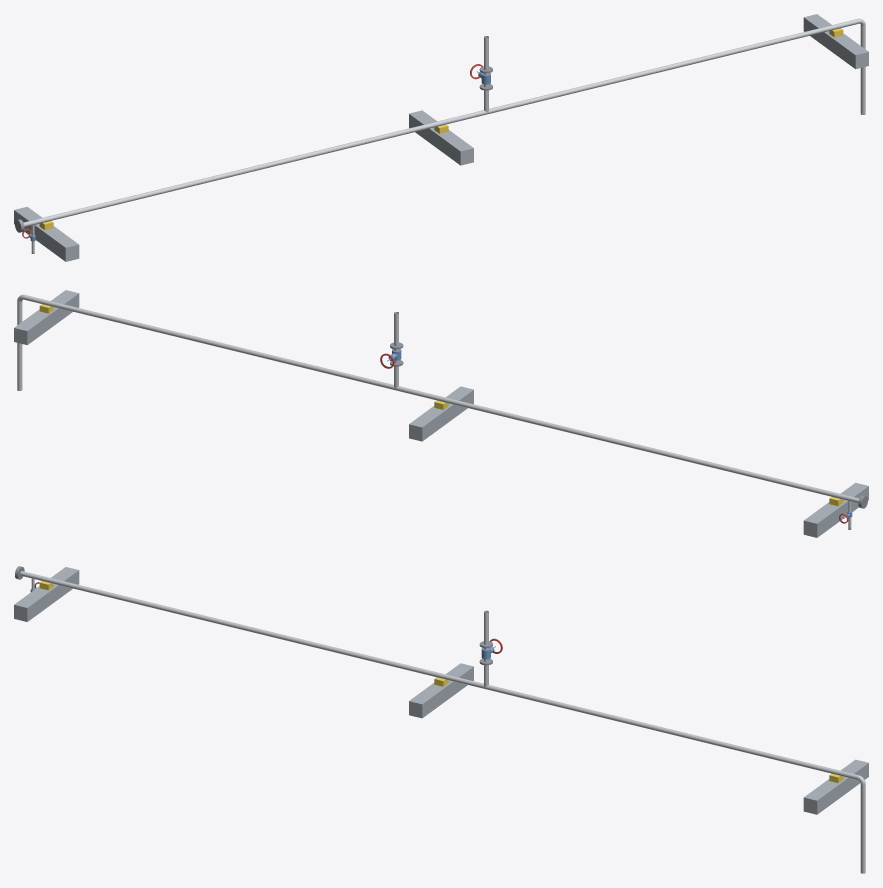
3 views of the same model, one above another, from view 1: azimuth 30°, elevation 25°; view 2: azimuth 150°, elevation 25°; view 3: azimuth 330°, elevation 25° (orthographic).
Parts seen in each view (by area): view 1: pipe, steel; view 2: pipe, steel; view 3: pipe, steel.
Part boxes in pixels (x1=…): pipe: x1=23, y1=18, x2=865, y2=252; steel: x1=14, y1=14, x2=868, y2=261; pipe: x1=17, y1=294, x2=859, y2=528; steel: x1=14, y1=290, x2=868, y2=537; pipe: x1=20, y1=571, x2=865, y2=873; steel: x1=14, y1=567, x2=868, y2=814.
Size of the model in its own units: 9.44 by 1.8 by 1.
